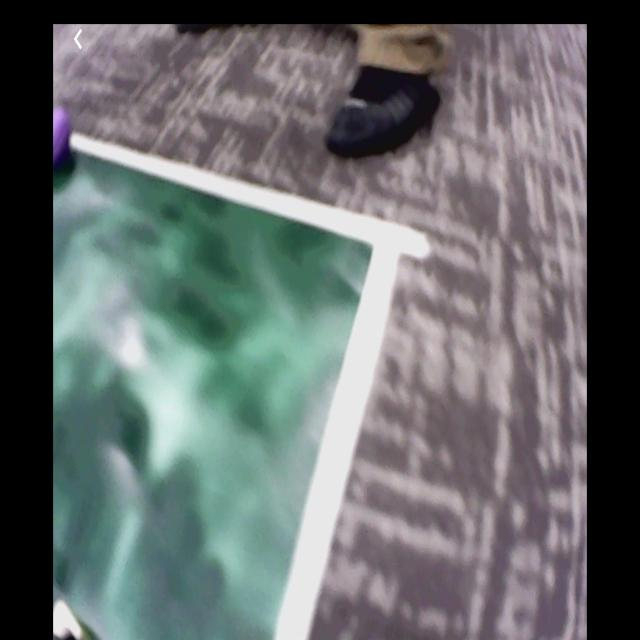ball: (54, 110, 78, 158)
